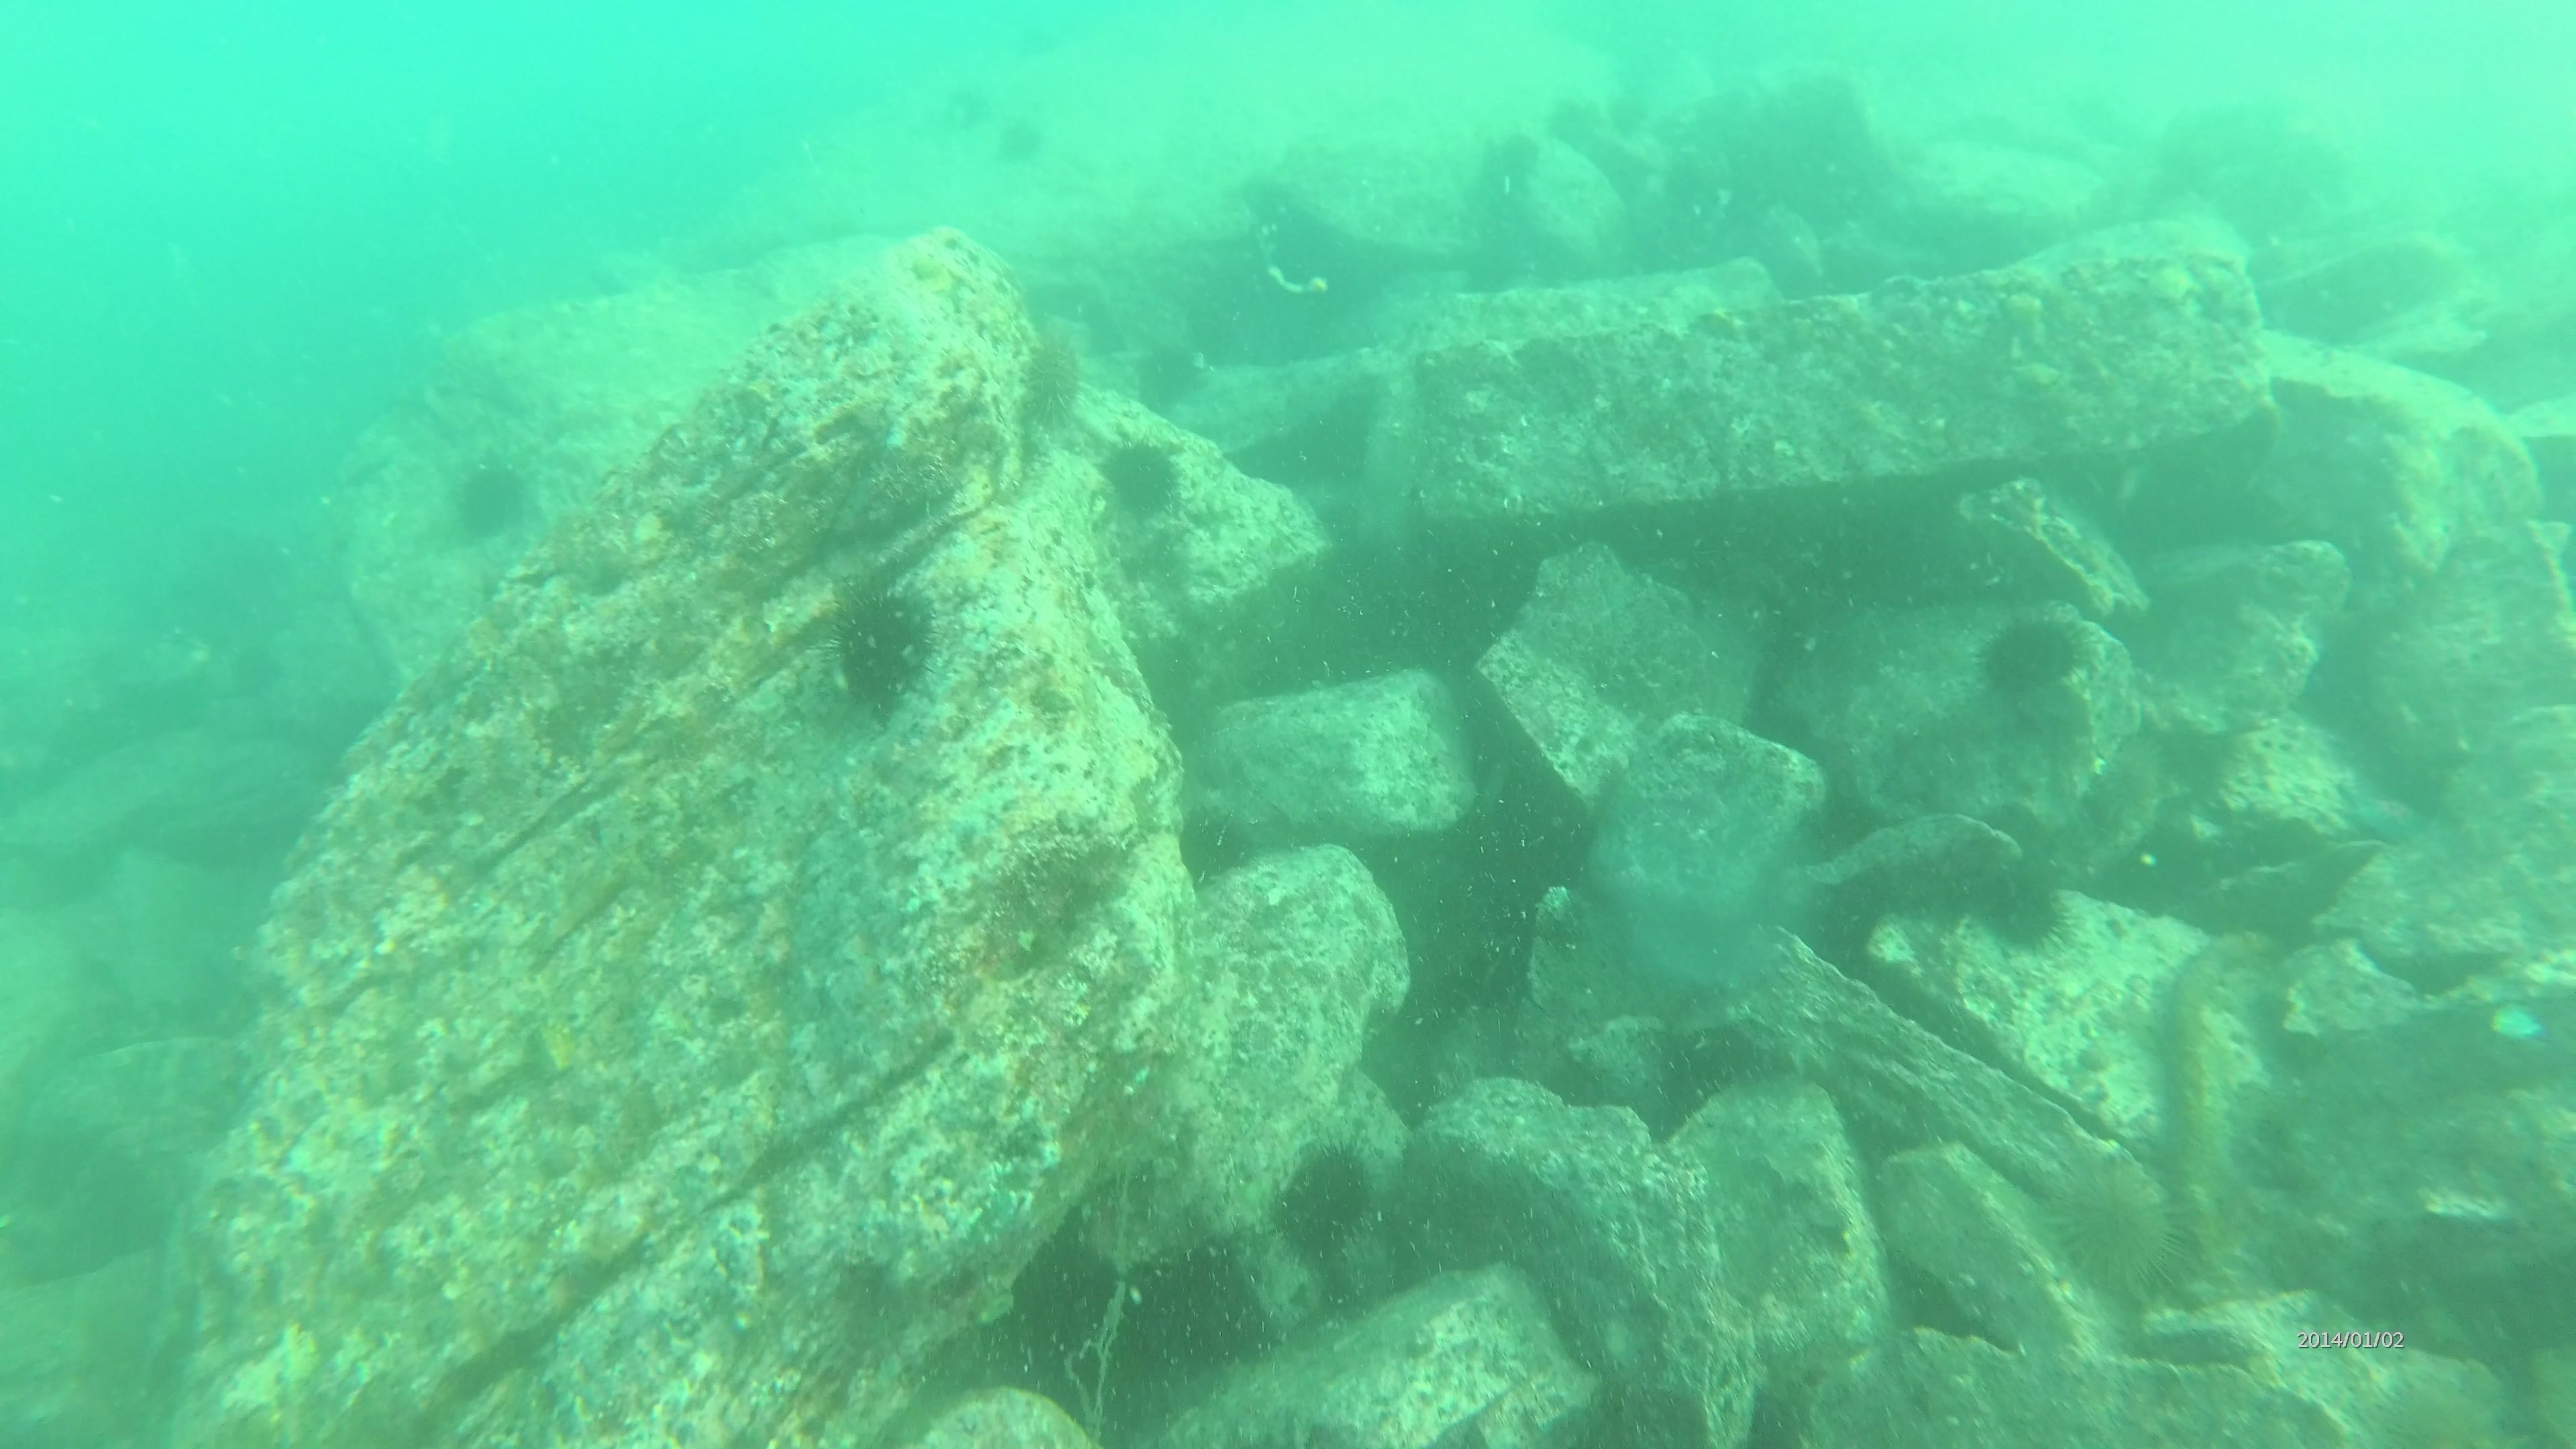echinus: (2036, 1146, 2197, 1307), (1123, 1237, 1274, 1380), (819, 571, 947, 718), (1267, 1136, 1382, 1265), (1971, 605, 2089, 708), (1966, 853, 2077, 957), (1008, 318, 1093, 441), (1092, 428, 1191, 525), (442, 451, 538, 547), (1169, 800, 1260, 890), (1125, 333, 1212, 418), (1465, 126, 1548, 212), (991, 111, 1049, 170)
starfish: (2323, 771, 2449, 846)
